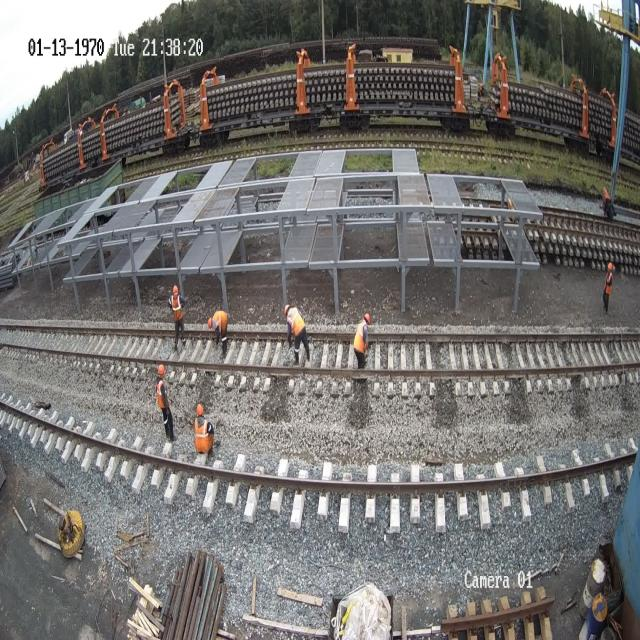Helmet: (157, 364, 165, 376), (197, 404, 203, 416), (364, 313, 370, 324), (284, 304, 290, 315), (207, 317, 212, 328), (173, 285, 178, 295), (608, 262, 612, 270)
Person: (284, 303, 310, 364), (156, 364, 175, 443), (168, 284, 188, 350), (194, 403, 214, 453), (353, 312, 370, 369), (207, 310, 228, 356), (602, 262, 613, 314)
